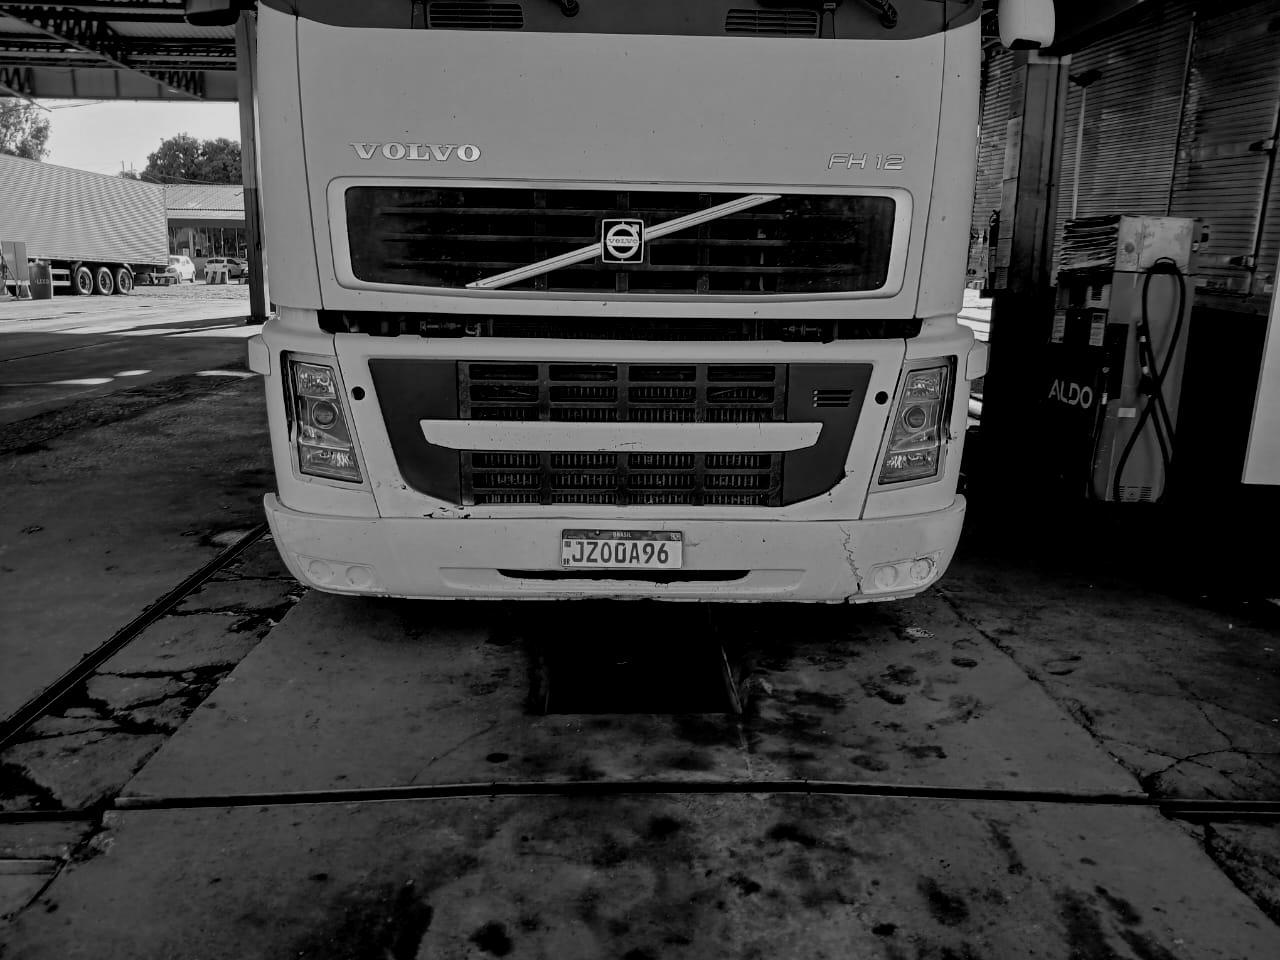placa_mercosul: (561, 529, 682, 569)
